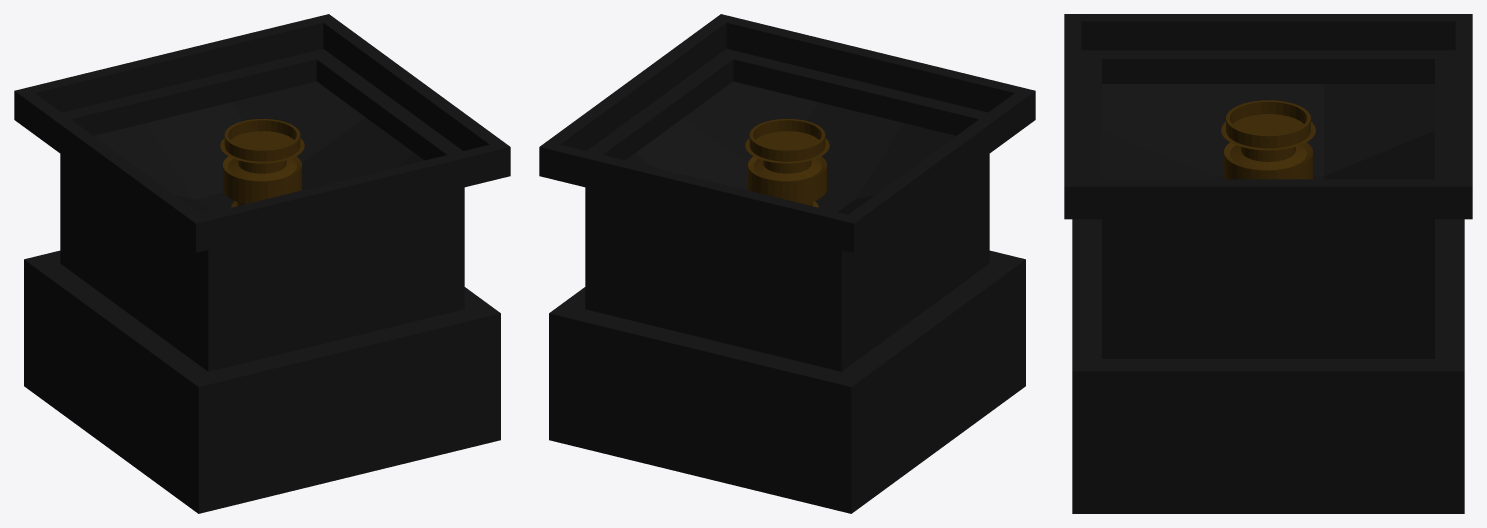
File: skin_3_1_model.fbx
The picture shows the model from 3 angles, left to right: view 1: azimuth 30°, elevation 25°; view 2: azimuth 150°, elevation 25°; view 3: azimuth 270°, elevation 25°; orthographic projection. The views are drawn at different scales.
Visible parts, largest first — view 1: Cube; view 2: Cube; view 3: Cube.
Boxes of the visible parts, x1,y1,x2,y2 form: Cube: (14,14,510,513); Cube: (539,14,1035,513); Cube: (1064,14,1472,513).
Bounding box in the file's own units: 245 × 219 × 245.
